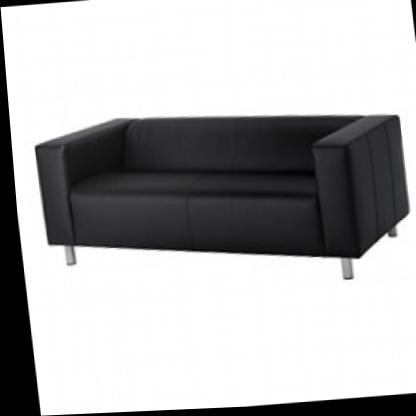Sofa: (22, 73, 416, 310)
